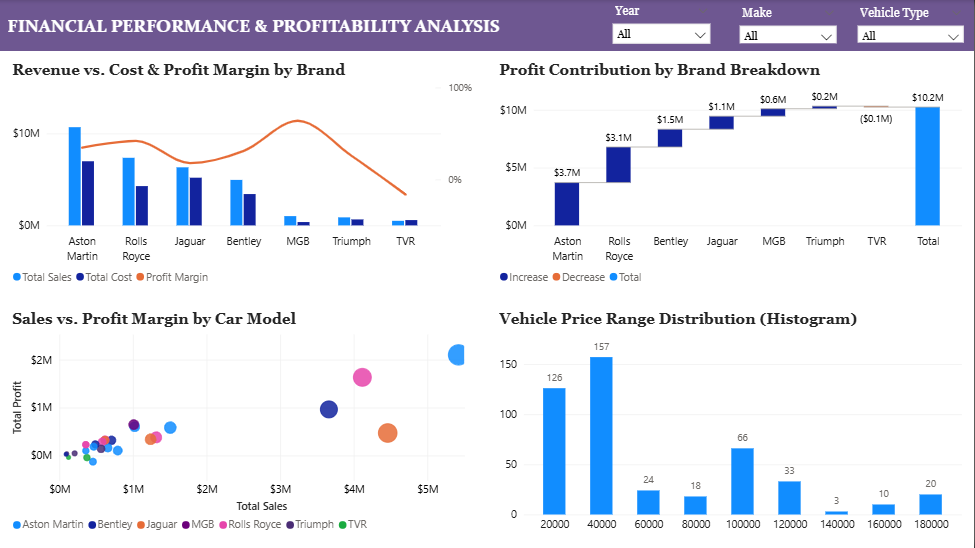

This screenshot's page, from the dashboard's own definition file:
{"tool":"powerbi","page":{"name":"Financial & Profitability","canvas":[1280,720],"ordinal":1},"visuals":[{"type":"shape","box":[0,0,1279.7,67],"z":0},{"type":"shape","box":[0,67,1279.7,653],"z":6000},{"type":"slicer","fields":{"Values":["Date.Year"]},"box":[799.7,5.5,137.6,56.4],"z":7000},{"type":"slicer","fields":{"Values":["Automobile.Make"]},"box":[967,7.9,136.6,48.6],"z":8000},{"type":"slicer","fields":{"Values":["Automobile.VehicleType"]},"box":[1121.7,8.3,148.6,48.2],"z":9000},{"type":"lineClusteredColumnComboChart","title":"Revenue vs. Cost & Profit Margin by Brand","fields":{"Category":["Automobile.Make"],"Y":["_Measures.Total Sales","_Measures.Total Cost"],"Y2":["_Measures.Profit Margin %"]},"box":[0,67,639.9,327.2],"z":10000},{"type":"waterfallChart","title":"Profit Contribution by Brand Breakdown","fields":{"Category":["Automobile.Make"],"Y":["_Measures.Total Profit"]},"box":[639.9,67,639.9,327.2],"z":11000},{"type":"scatterChart","title":"Sales vs. Profit Margin by Car Model","fields":{"X":["_Measures.Total Sales"],"Category":["Automobile.Model"],"Y":["_Measures.Total Profit"],"Series":["Automobile.Make"],"Size":["_Measures.Total Sales"]},"box":[0,394.2,639.9,325.8],"z":12000},{"type":"clusteredColumnChart","title":"Vehicle Price Range Distribution (Histogram)","fields":{"Category":["Automobile.SalePrice (bins)"],"Y":["CountNonNull(Automobile.SalePrice)"]},"box":[639.9,394.2,639.9,325.8],"z":13000}]}

Visuals, with their boxes in screenshot pixels (x1, y1, x2, y2), scaled from the page's 1280x720 canvas onto the 975x548 screenshot:
shape: bbox(0, 0, 974, 51)
shape: bbox(0, 51, 974, 547)
slicer - Date.Year: bbox(609, 4, 714, 47)
slicer - Automobile.Make: bbox(737, 6, 841, 43)
slicer - Automobile.VehicleType: bbox(854, 6, 968, 43)
"Revenue vs. Cost & Profit Margin by Brand" lineClusteredColumnComboChart: bbox(0, 51, 487, 300)
"Profit Contribution by Brand Breakdown" waterfallChart: bbox(487, 51, 974, 300)
"Sales vs. Profit Margin by Car Model" scatterChart: bbox(0, 300, 487, 547)
"Vehicle Price Range Distribution (Histogram)" clusteredColumnChart: bbox(487, 300, 974, 547)
